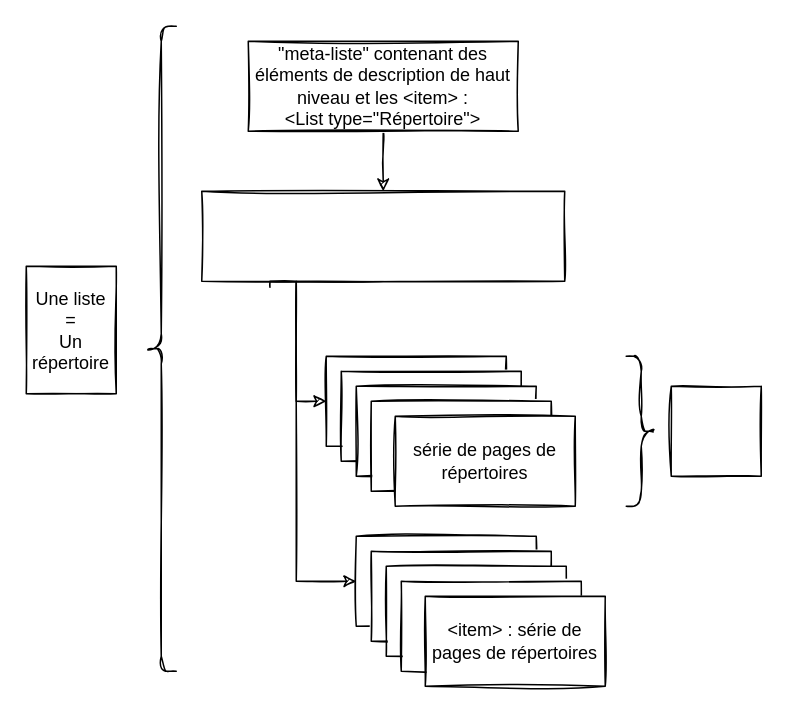
The diagram is 788 pixels wide and 713 high, and some of its shapes have lost their labels. Each missing label, with the box of its shape:
<item>: (670, 385, 761, 476)
liste contenant les <item> : <List type="Contenu_de_Répertoire">: (200, 190, 565, 281)
